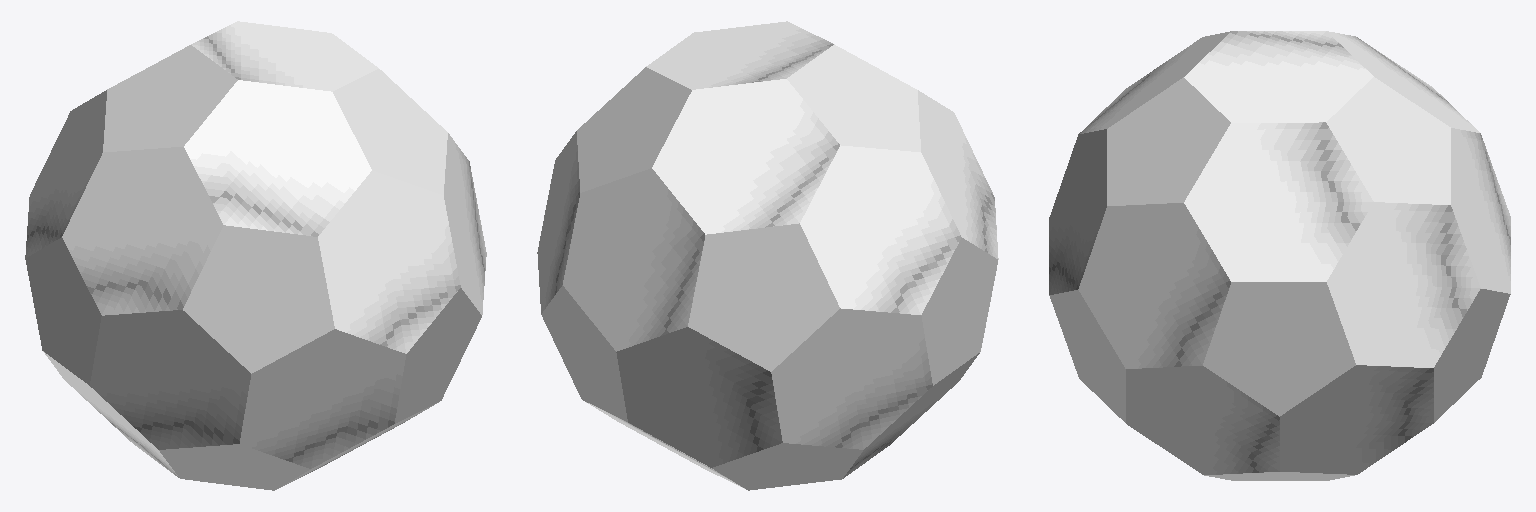
3 views of the same model, side by side, from view 1: azimuth 30°, elevation 25°; view 2: azimuth 150°, elevation 25°; view 3: azimuth 270°, elevation 25° (orthographic).
Visible parts, largest first — view 1: polygon0, polygon1; view 2: polygon0, polygon1; view 3: polygon0, polygon1.
Boxes of the visible parts, x1,y1,x2,y2 form: polygon0: [25, 21, 486, 489]; polygon1: [25, 45, 481, 490]; polygon0: [537, 21, 998, 488]; polygon1: [541, 44, 997, 490]; polygon0: [1049, 31, 1510, 474]; polygon1: [1049, 77, 1510, 480].
Size of the model in its own units: 7.47 by 7.53 by 7.69.
2 materials, 1 textured.